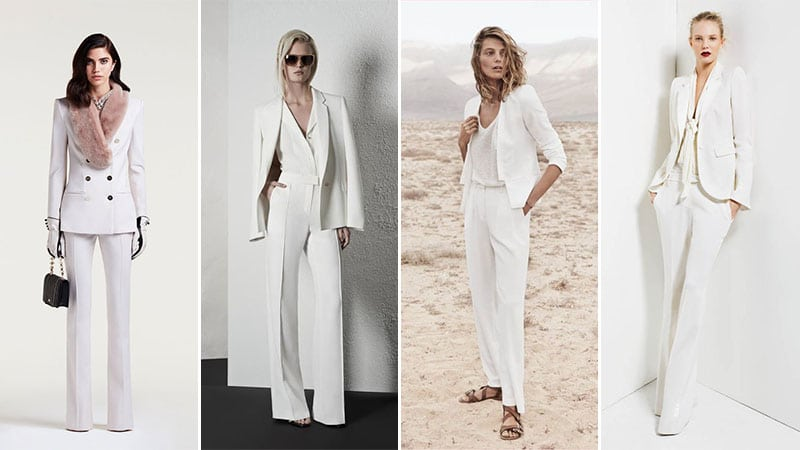feet: (453, 359, 526, 445), (266, 374, 360, 434), (646, 374, 708, 443), (59, 392, 138, 436)
